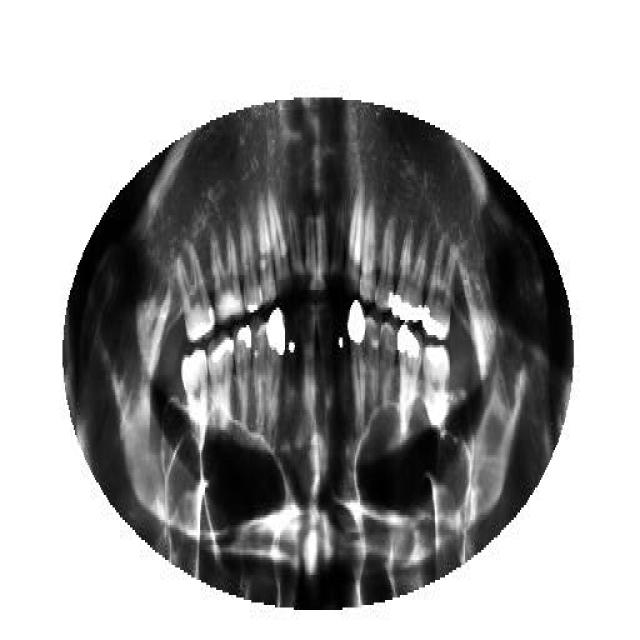Fillings: (425, 235, 456, 340), (394, 222, 425, 322), (265, 300, 287, 440), (396, 328, 422, 442), (206, 330, 235, 430), (348, 300, 368, 432), (235, 325, 253, 435), (375, 218, 394, 318)
